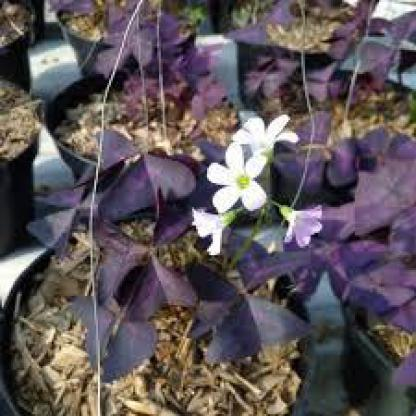Kupu-Kupu: (188, 251, 313, 347), (95, 214, 186, 312), (98, 132, 205, 201)
